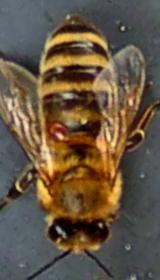varroa_mite: (38, 111, 80, 146)
